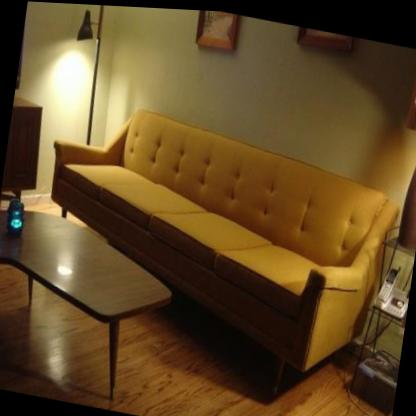Lamp: (58, 2, 121, 151)
Sofa: (24, 84, 411, 397)
Table: (0, 206, 179, 407)
